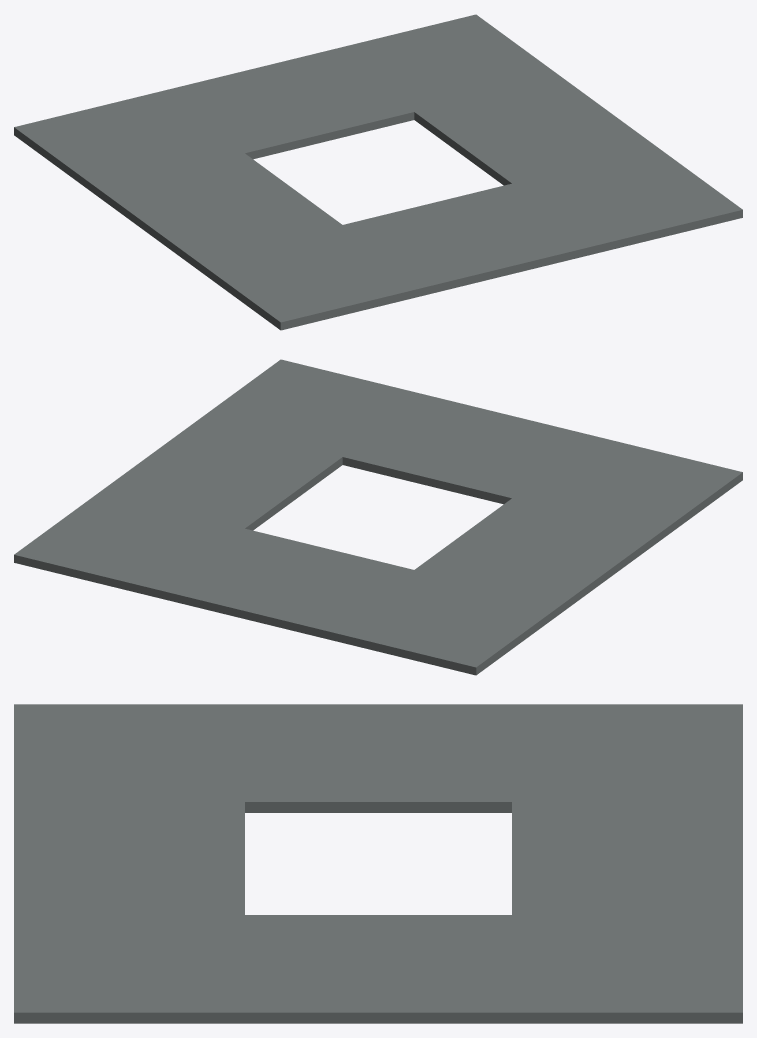
File: SM_Floor_Hatchway_3x3.fbx
3 renders of one model, top to bottom at view 1: azimuth 30°, elevation 25°; view 2: azimuth 150°, elevation 25°; view 3: azimuth 270°, elevation 25°, orthographic. The views are drawn at different scales.
Visible parts, largest first — view 1: SM_Floor_Hatchway_3x3; view 2: SM_Floor_Hatchway_3x3; view 3: SM_Floor_Hatchway_3x3.
Part boxes in pixels (x1,y1,x2,y2): SM_Floor_Hatchway_3x3: (14, 14, 742, 330); SM_Floor_Hatchway_3x3: (14, 359, 742, 675); SM_Floor_Hatchway_3x3: (14, 704, 742, 1023).
Size of the model in its own units: 300 by 5 by 300.
